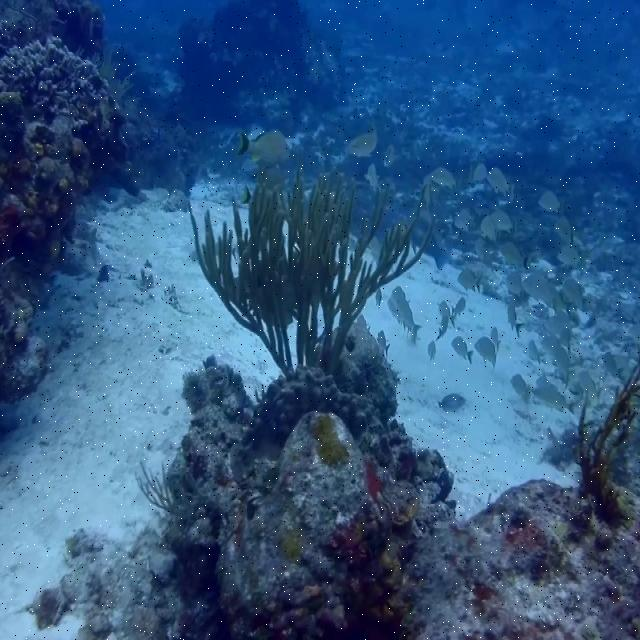aquatic plants: (187, 156, 437, 377), (568, 355, 639, 529), (131, 458, 219, 517)
sea-floor: (30, 328, 639, 639), (0, 0, 130, 403)
